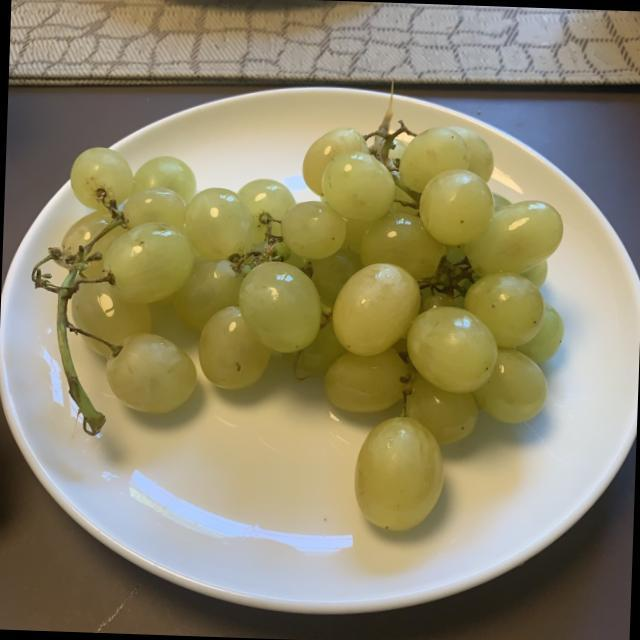Grapes: (27, 98, 576, 546)
